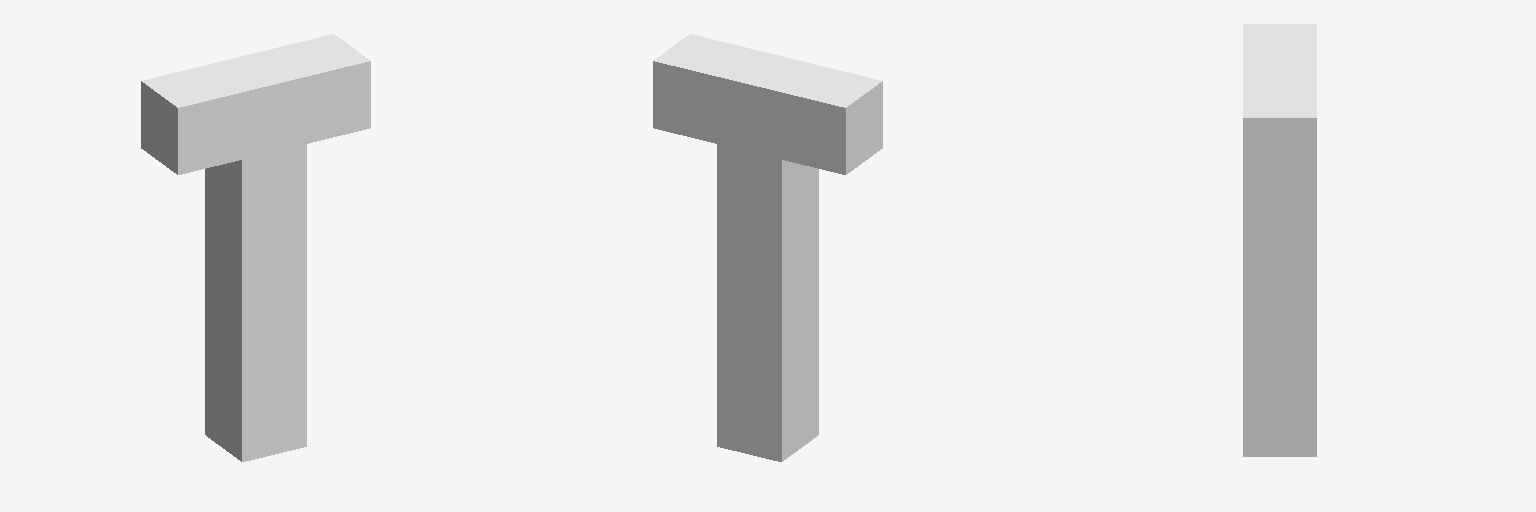
Rendered from throttle_handle.obj.
3 views of the same model, side by side, from view 1: azimuth 30°, elevation 25°; view 2: azimuth 150°, elevation 25°; view 3: azimuth 270°, elevation 25° (orthographic).
Visible parts, largest first — view 1: throttle_handle; view 2: throttle_handle; view 3: throttle_handle.
Boxes of the visible parts, x1=… form: throttle_handle: x1=141, y1=34, x2=370, y2=461; throttle_handle: x1=653, y1=34, x2=882, y2=461; throttle_handle: x1=1243, y1=24, x2=1316, y2=456.
Bounding box in the file's own units: 6 × 11 × 2.